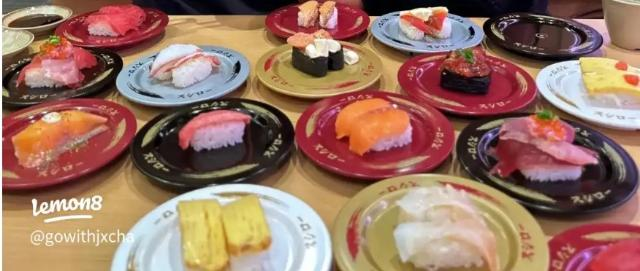janback: (464, 118, 618, 199), (138, 103, 284, 176), (483, 5, 603, 56), (4, 52, 115, 100)
jangold: (336, 171, 536, 265), (262, 42, 388, 90)
janred: (298, 96, 446, 161), (15, 103, 125, 184), (393, 57, 518, 109), (563, 227, 639, 271), (266, 4, 368, 36), (65, 6, 167, 33)
janwhite: (127, 189, 322, 271), (136, 47, 245, 98), (539, 66, 640, 121), (379, 14, 486, 62)
